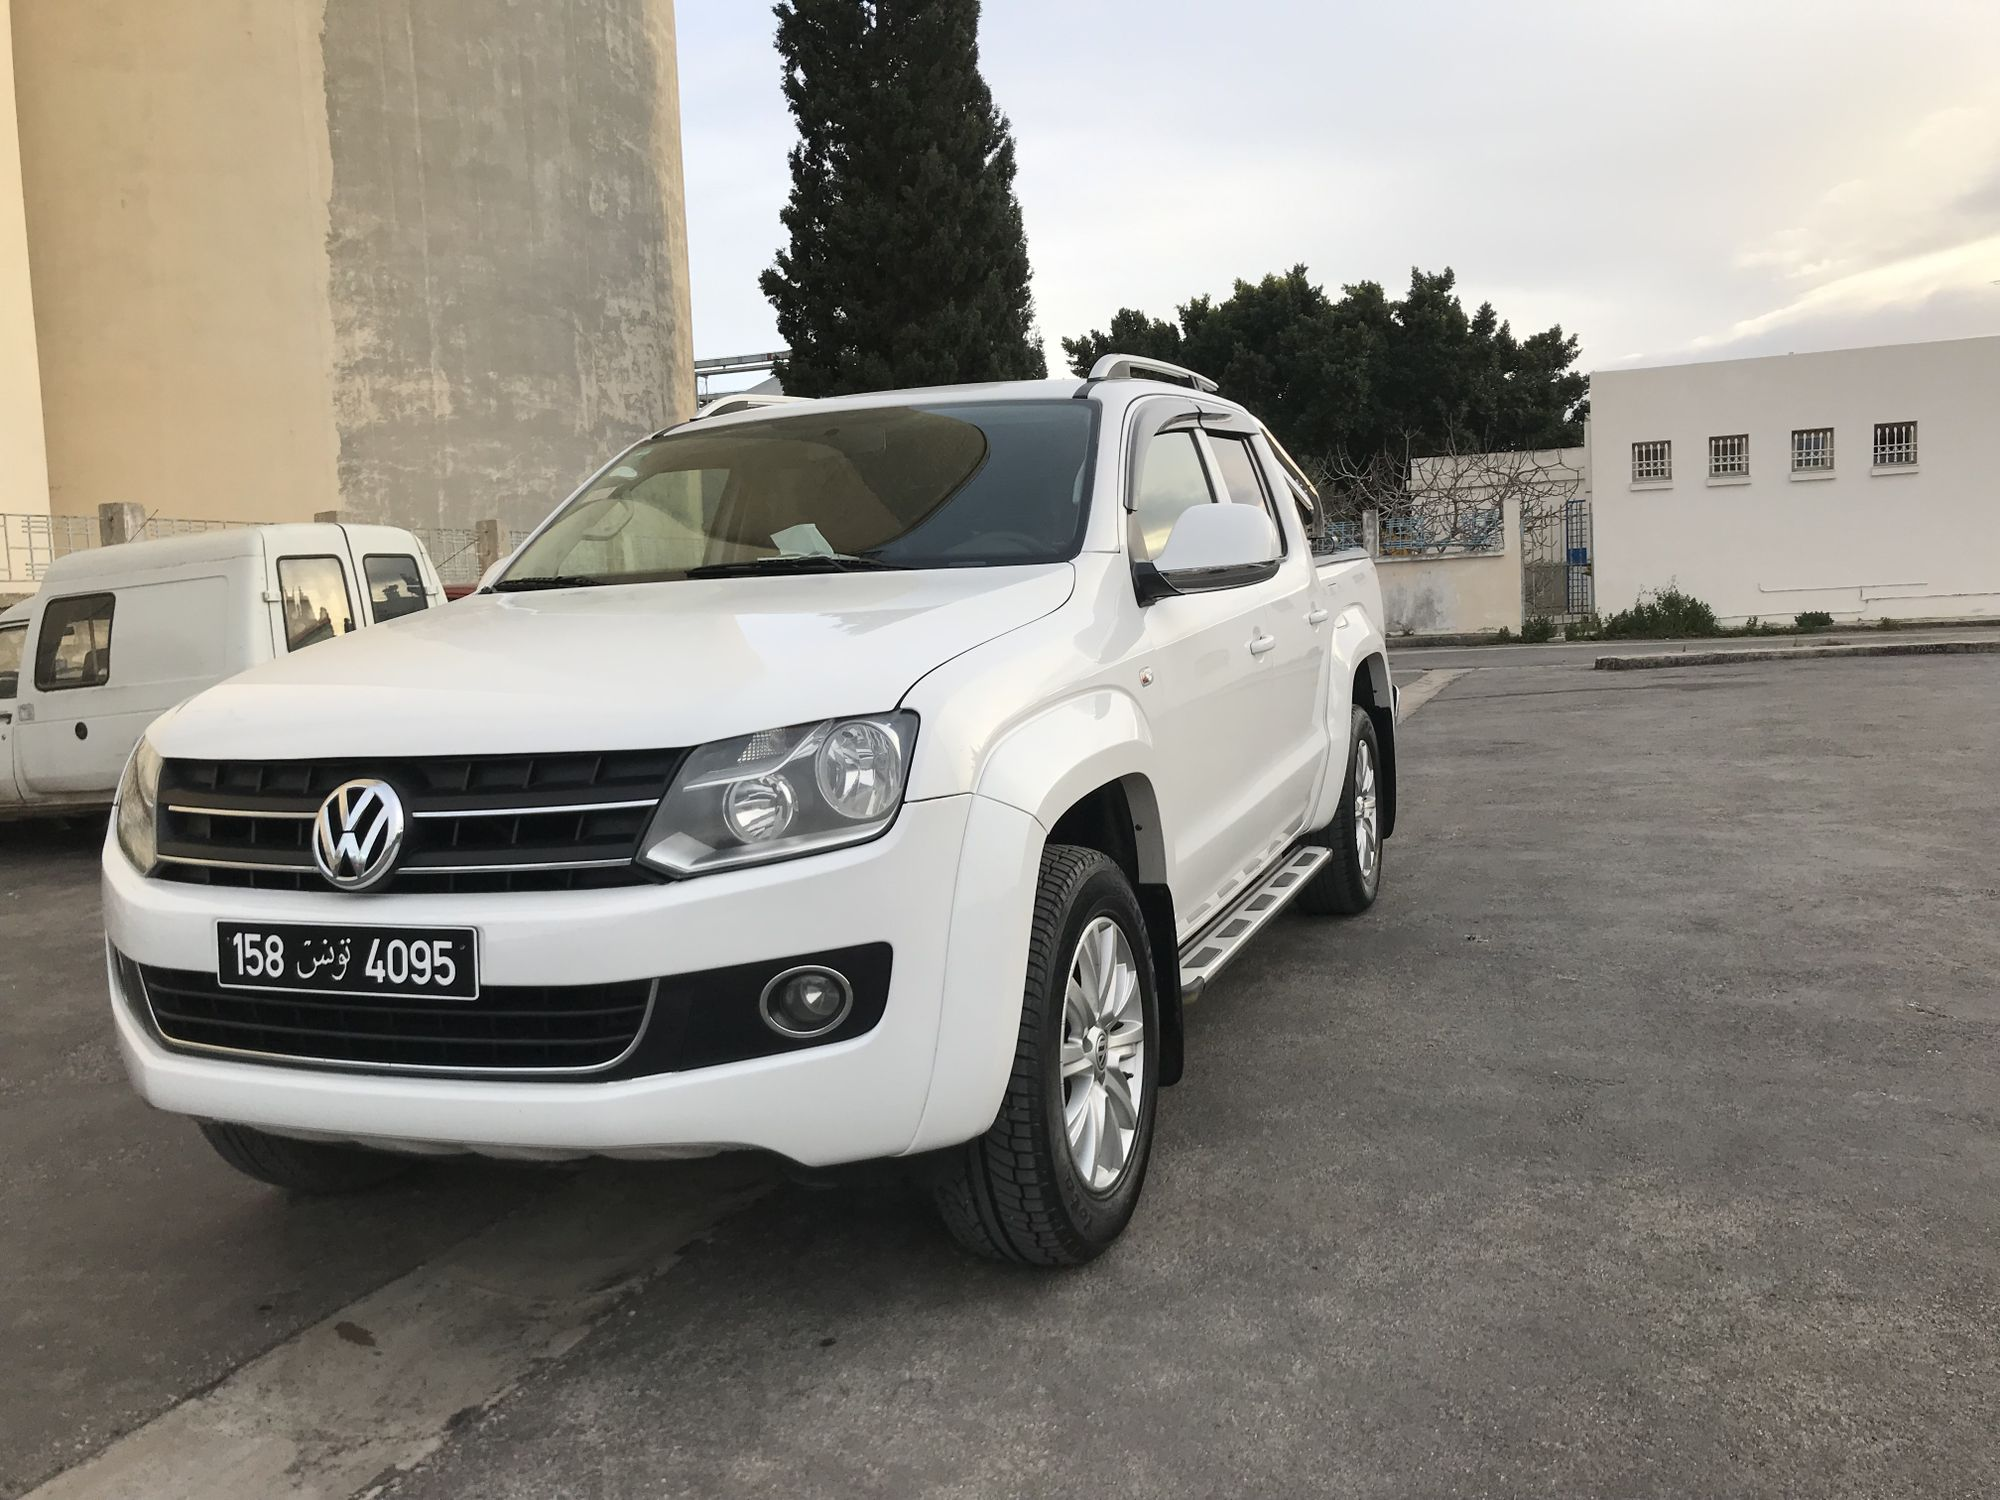LP: (210, 913, 486, 1008)
